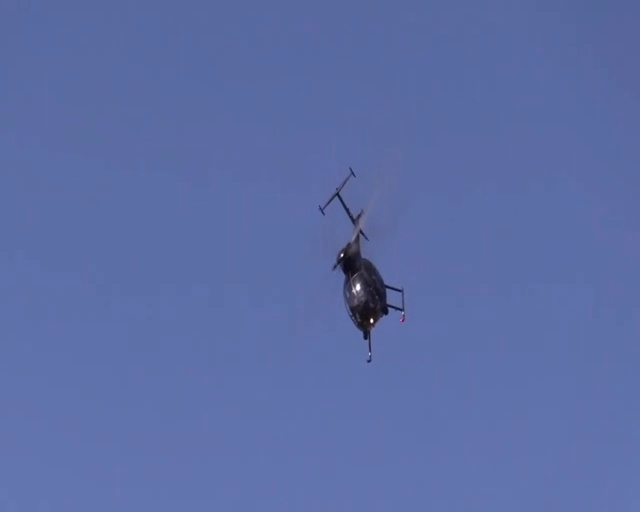HELICOPTER: (319, 164, 411, 364)
